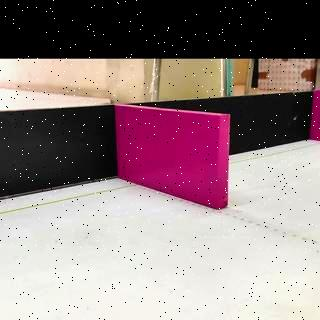xparking: (118, 113, 229, 202)
